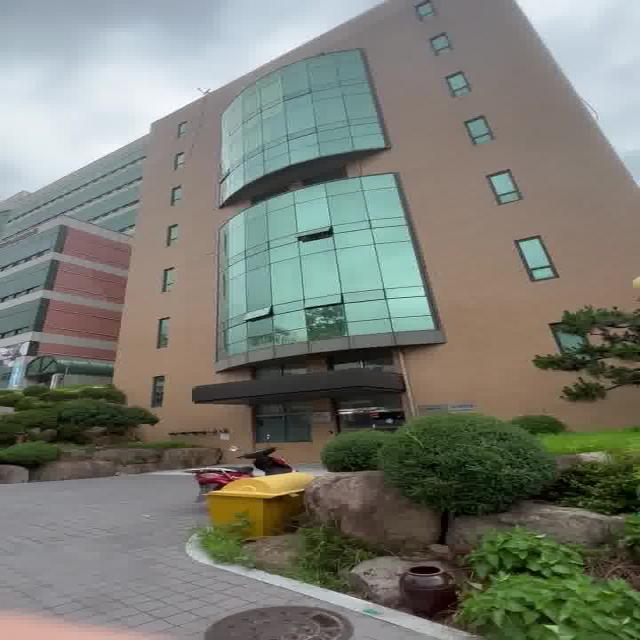building: (132, 43, 508, 419)
